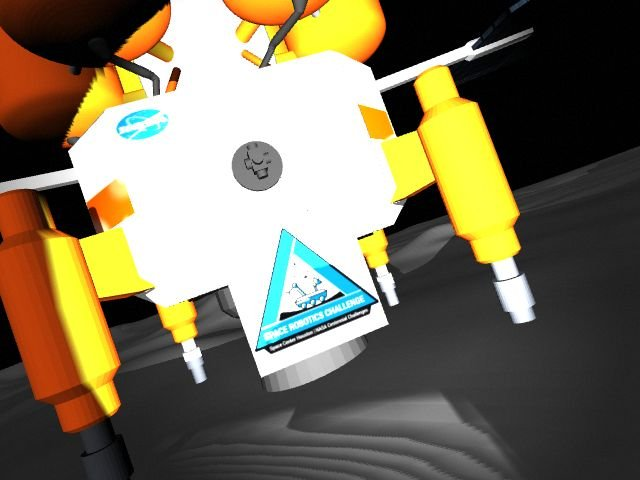basemarker: (255, 228, 380, 355)
